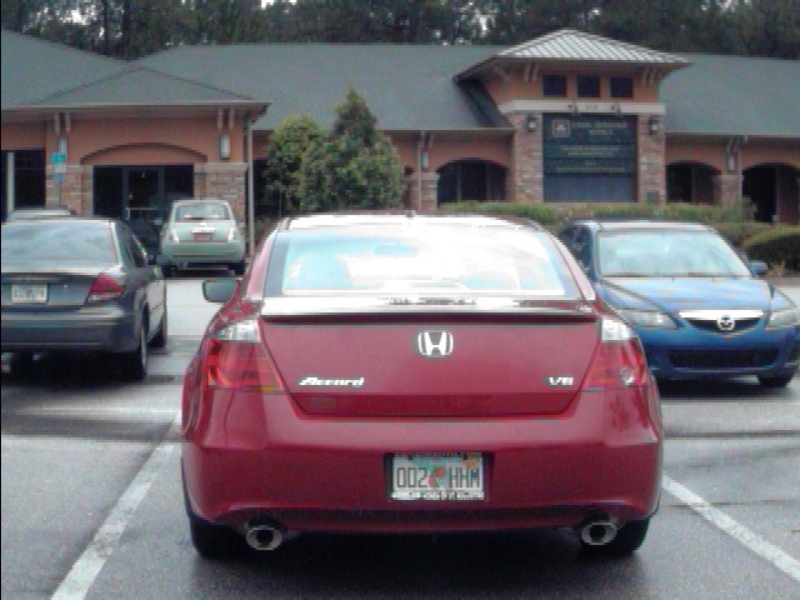licence plate: (388, 450, 487, 502)
